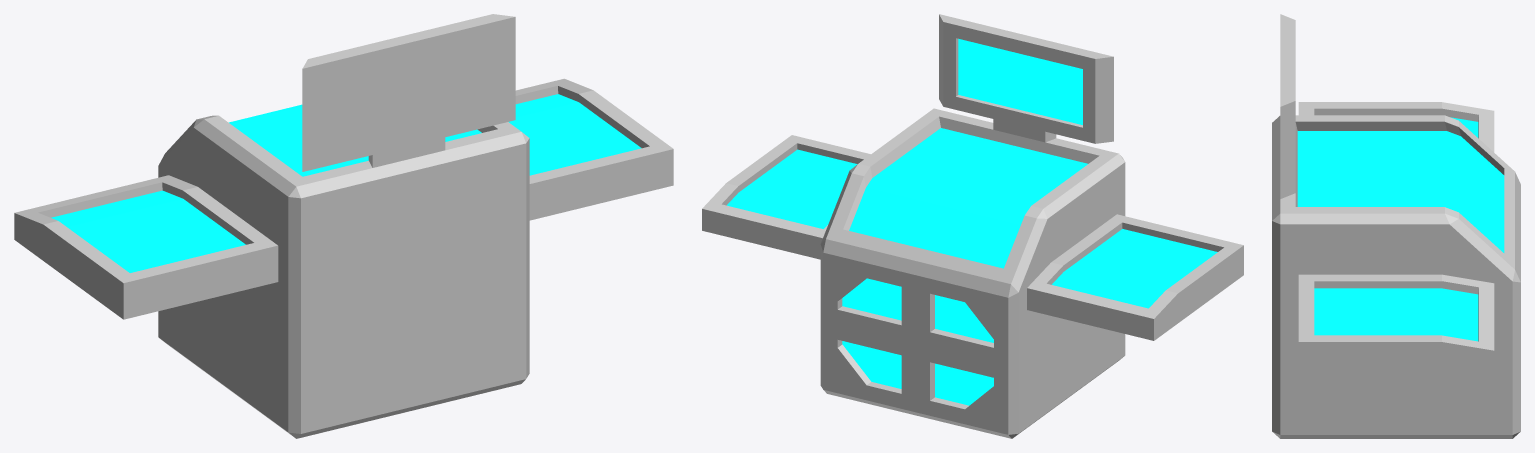
The model's file is Terminal.fbx.
3 views of the same model, side by side, from view 1: azimuth 30°, elevation 25°; view 2: azimuth 150°, elevation 25°; view 3: azimuth 270°, elevation 25° (orthographic). The views are drawn at different scales.
Parts seen in each view (by area): view 1: Terminal; view 2: Terminal; view 3: Terminal.
Boxes of the visible parts, x1,y1,x2,y2 form: Terminal: [14, 14, 673, 438]; Terminal: [702, 14, 1243, 438]; Terminal: [1272, 14, 1520, 438].
Bounding box in the file's own units: 456 × 292 × 200.
